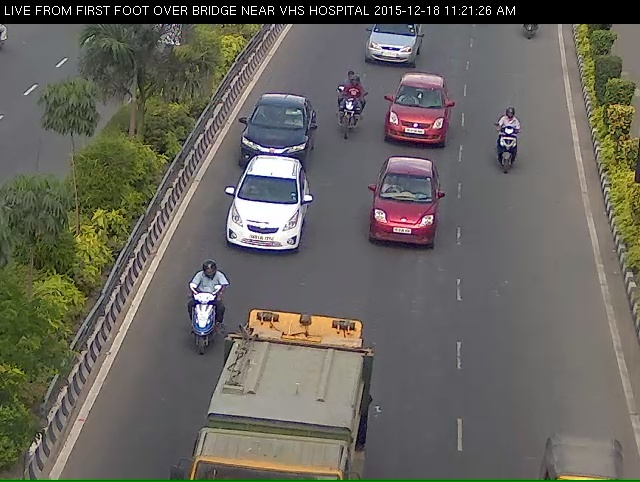Car: (222, 170, 301, 265), (366, 165, 438, 267), (380, 77, 456, 150), (237, 106, 302, 175), (358, 22, 420, 69)
Person: (169, 282, 220, 375), (488, 108, 526, 182), (328, 79, 361, 148)
